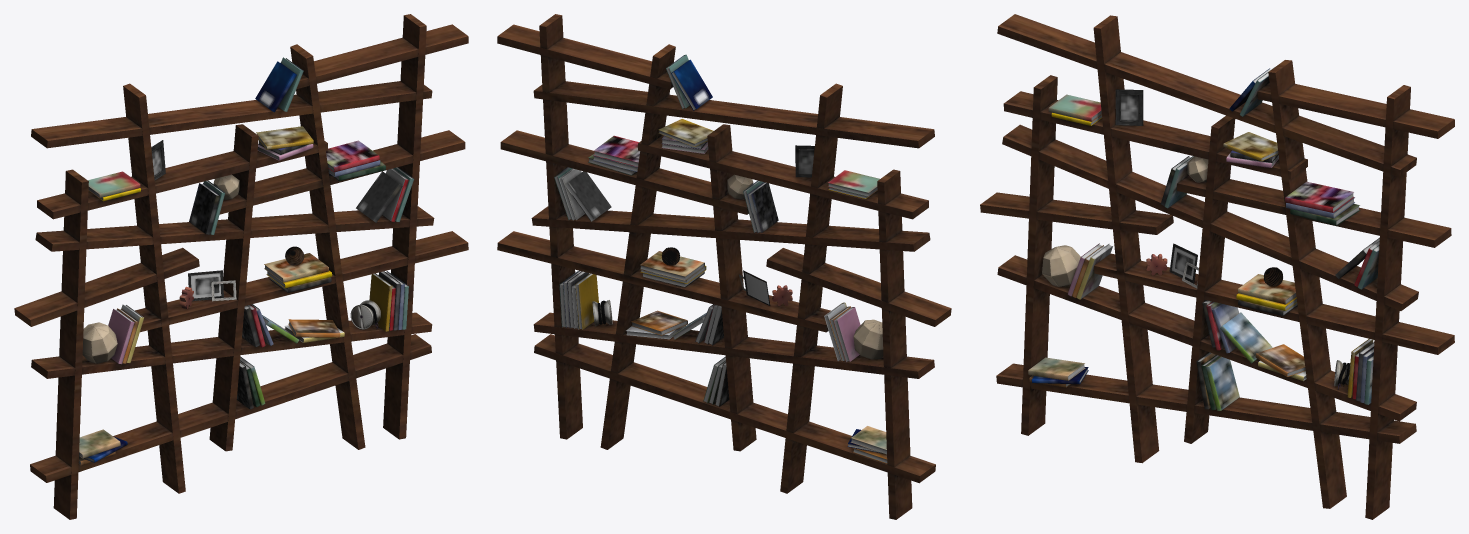
The model's file is Library3.obj.
3 renders of one model, left to right at view 1: azimuth 30°, elevation 25°; view 2: azimuth 150°, elevation 25°; view 3: azimuth 330°, elevation 25°, orthographic. The views are drawn at different scales.
Parts seen in each view (by area): view 1: Library_Material.003; view 2: Library_Material.003; view 3: Library_Material.003.
Part boxes in pixels (x1,y1,x2,y2): Library_Material.003: (14,14,468,519); Library_Material.003: (497,14,951,519); Library_Material.003: (980,14,1454,519).
Bounding box in the file's own units: 12.38 × 11.02 × 1.19.
